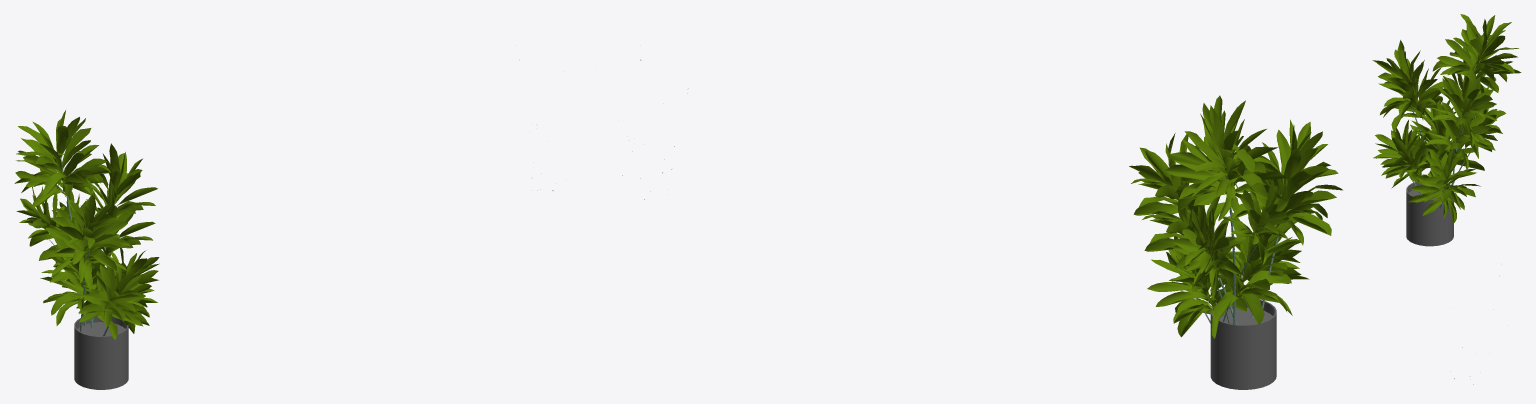
The model's file is planta-en-maceta-5.glb.
3 views of the same model, side by side, from view 1: azimuth 30°, elevation 25°; view 2: azimuth 150°, elevation 25°; view 3: azimuth 270°, elevation 25° (orthographic). The views are drawn at different scales.
Parts seen in each view (by area): view 1: SketchUp.425, SketchUp; view 2: SketchUp.425, SketchUp; view 3: SketchUp.425, SketchUp, SketchUp.418.
Part boxes in pixels (x1,y1,x2,y2): SketchUp.425: (14,110,159,339); SketchUp: (74,316,128,389); SketchUp.425: (1129,95,1342,338); SketchUp: (1210,298,1276,389); SketchUp.425: (1372,14,1521,223); SketchUp: (1406,182,1453,246); SketchUp.418: (1407,54,1479,208).
Size of the model in its own units: 4.73 by 1.99 by 1.25.
